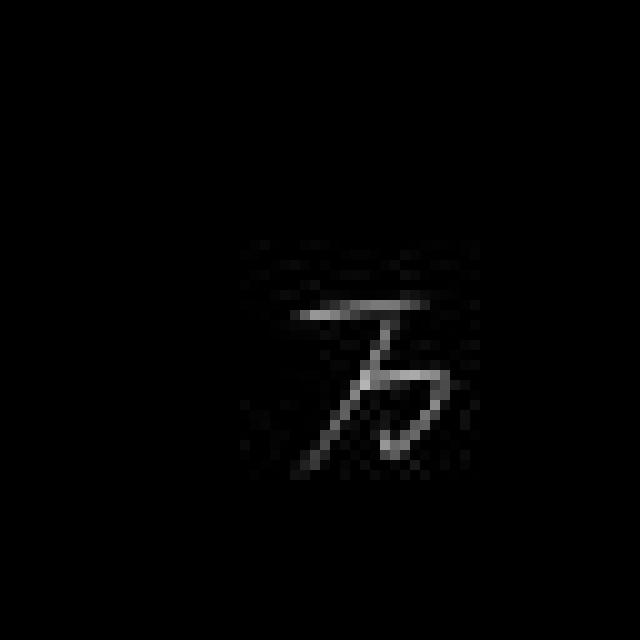10000 -a ten thousand-: (284, 284, 458, 484)
